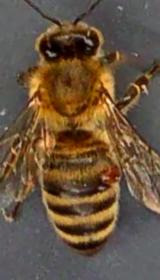varroa_mite: (97, 158, 123, 188)
